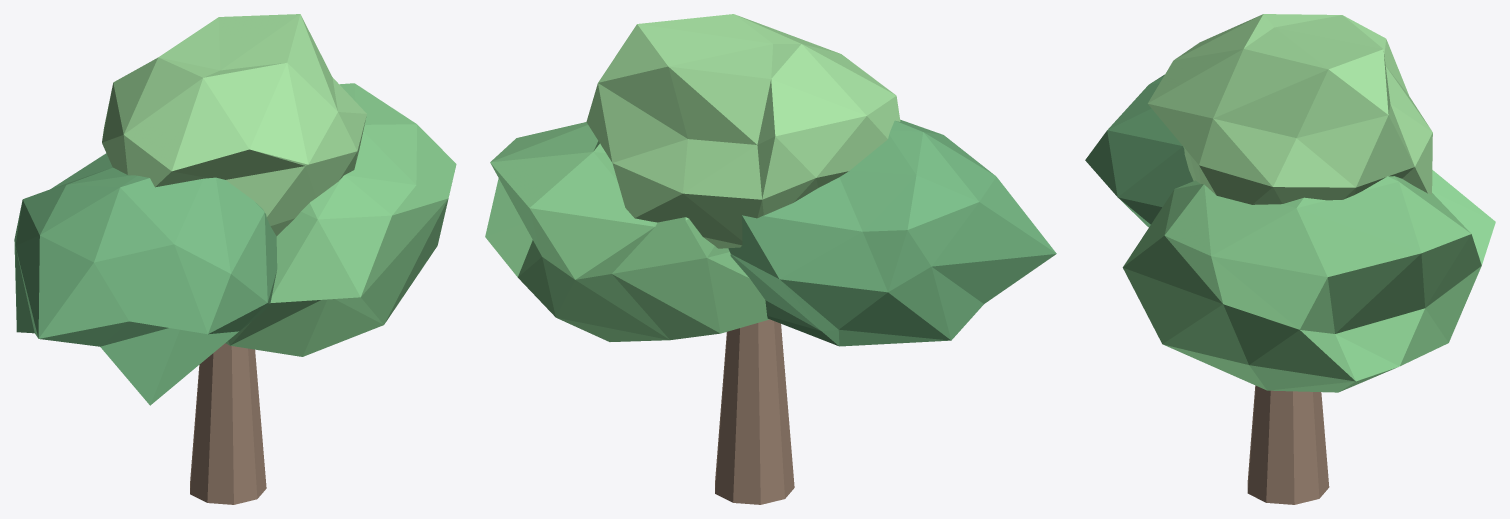
File: canopy-broadleaf-a.glb
3 renders of one model, left to right at view 1: azimuth 30°, elevation 25°; view 2: azimuth 150°, elevation 25°; view 3: azimuth 270°, elevation 25°, orthographic. The views are drawn at different scales.
Parts seen in each view (by area): view 1: ASTX_VEG_CANOPY_A_massL, ASTX_VEG_CANOPY_A_massT, ASTX_VEG_CANOPY_A_massR, ASTX_VEG_CANOPY_A_trunk; view 2: ASTX_VEG_CANOPY_A_massT, ASTX_VEG_CANOPY_A_massL, ASTX_VEG_CANOPY_A_massR, ASTX_VEG_CANOPY_A_trunk; view 3: ASTX_VEG_CANOPY_A_massR, ASTX_VEG_CANOPY_A_massT, ASTX_VEG_CANOPY_A_trunk, ASTX_VEG_CANOPY_A_massL.
Boxes of the visible parts, x1,y1,x2,y2 form: ASTX_VEG_CANOPY_A_massL: (14,153,277,405); ASTX_VEG_CANOPY_A_massT: (102,14,366,236); ASTX_VEG_CANOPY_A_massR: (225,83,456,356); ASTX_VEG_CANOPY_A_trunk: (190,343,266,504); ASTX_VEG_CANOPY_A_massT: (586,14,900,248); ASTX_VEG_CANOPY_A_massL: (728,119,1056,346); ASTX_VEG_CANOPY_A_massR: (485,122,769,341); ASTX_VEG_CANOPY_A_trunk: (715,319,794,504); ASTX_VEG_CANOPY_A_massR: (1122,170,1495,392); ASTX_VEG_CANOPY_A_massT: (1147,14,1432,204); ASTX_VEG_CANOPY_A_trunk: (1247,385,1329,504); ASTX_VEG_CANOPY_A_massL: (1085,74,1193,227).
Size of the model in its own units: 8.15 by 7.17 by 5.73.
